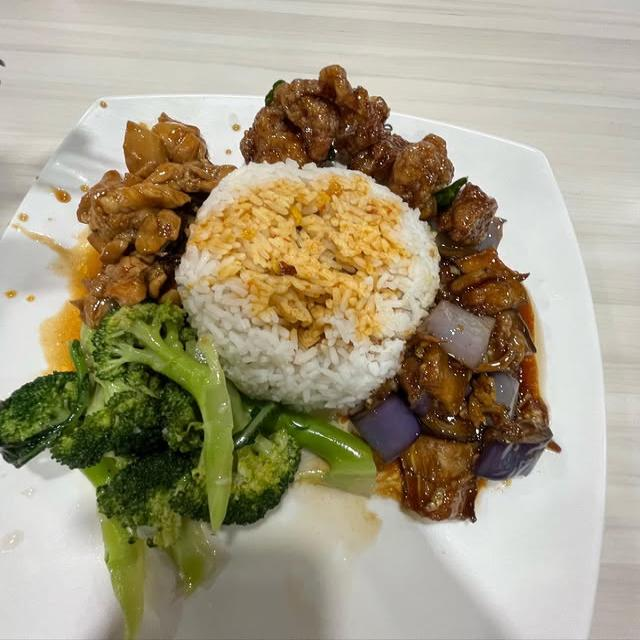Chicken: (240, 65, 500, 256), (78, 113, 235, 319)
Green veg: (0, 301, 374, 639)
Non green veg: (351, 300, 551, 520)
Rice: (176, 161, 439, 412)
